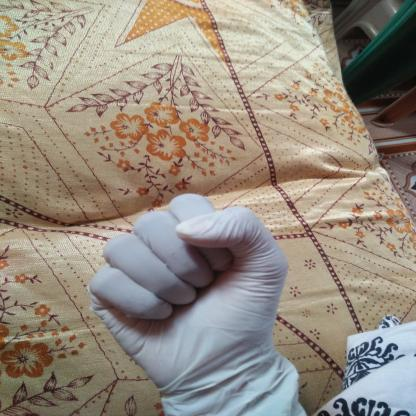gloved_hand: (80, 193, 310, 414)
